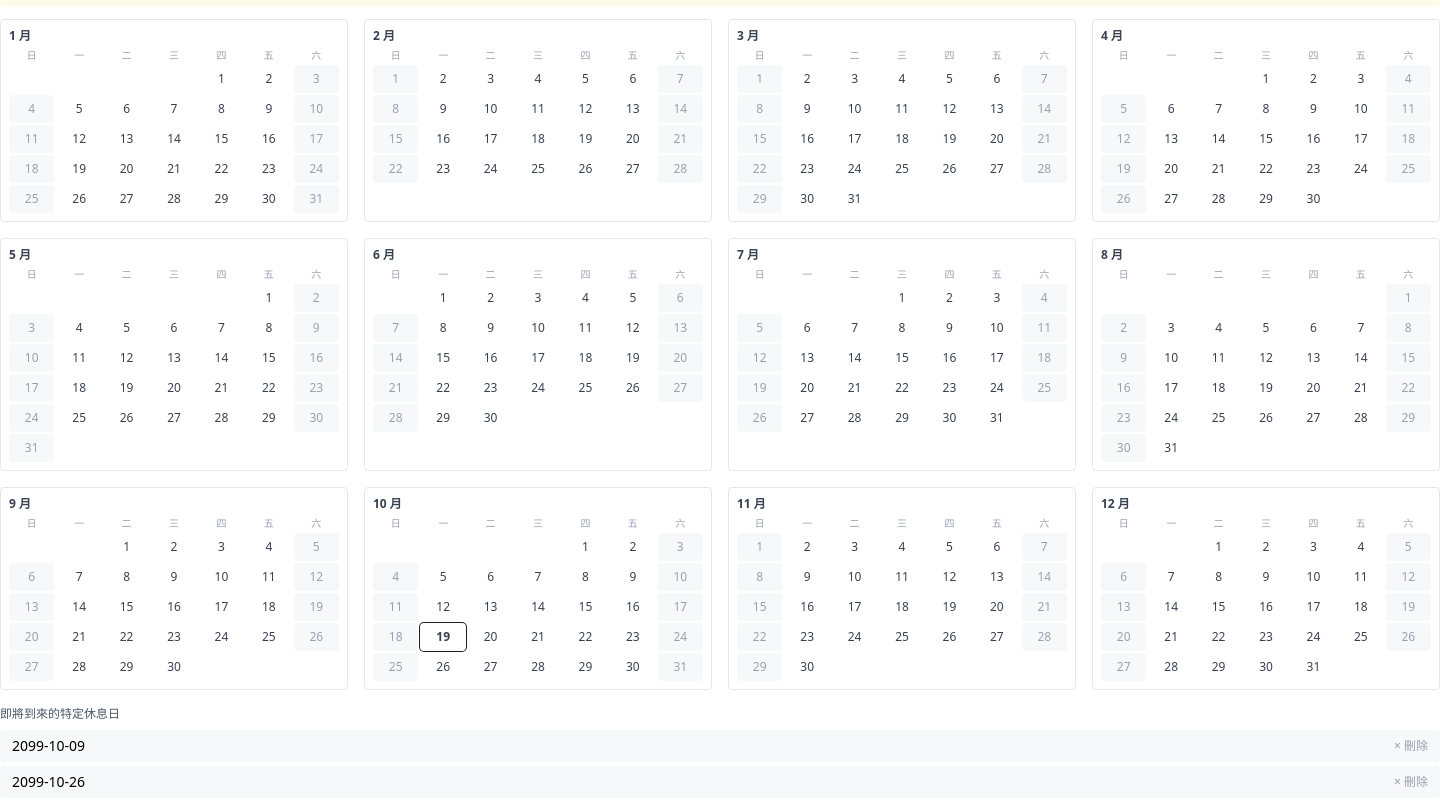
RestDaysManager › 失敗時顯示伺服器訊息，清單不變
This screenshot has width=1440, height=810.
(page scrolled)
What coordinates should you click on to do the following:
click the button "× 刪除" in the row of "2099-10-09"
I would click on:
 (1411, 746)
Its box is [1394, 738, 1428, 754].
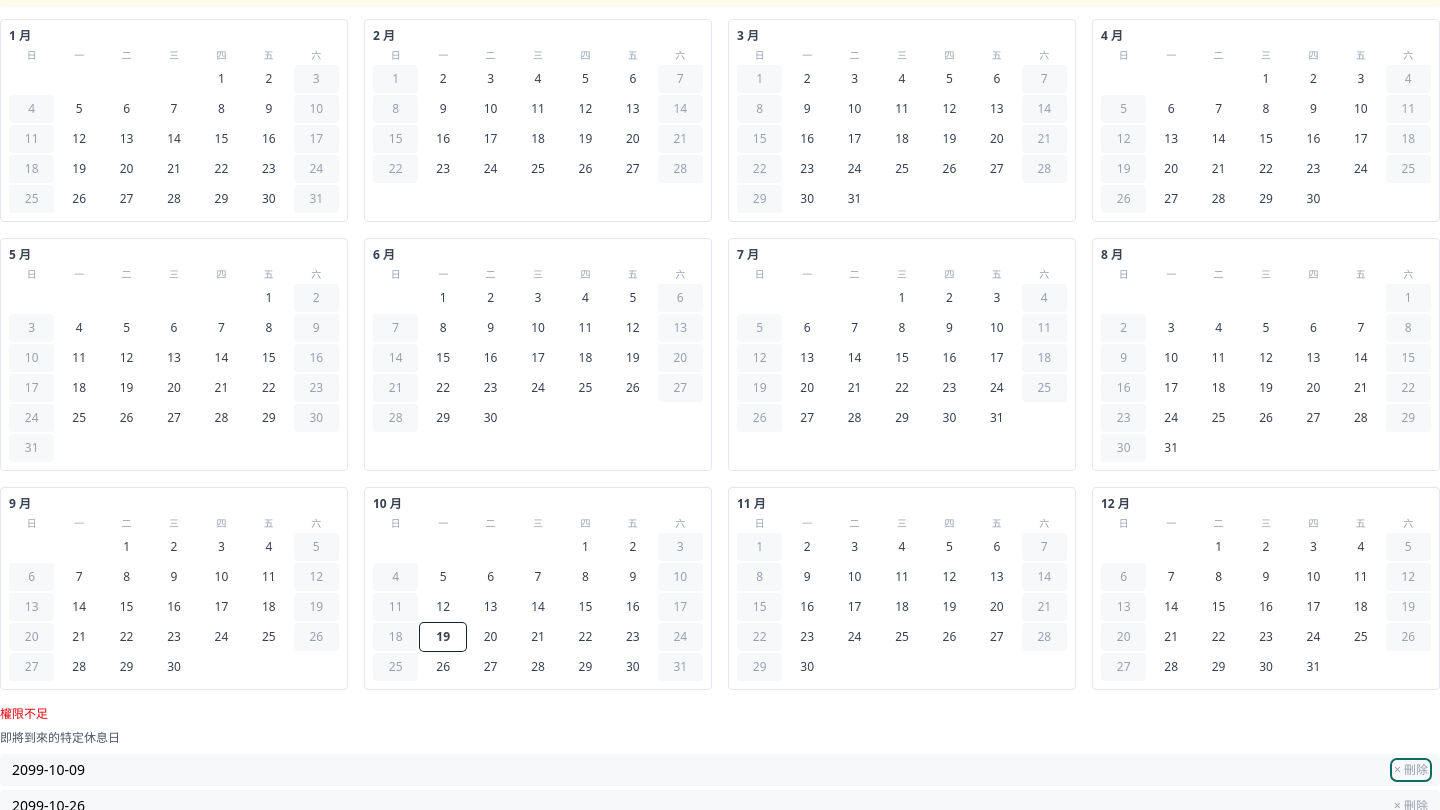
Check: the message reads "權限不足", box [0, 705, 48, 722]
